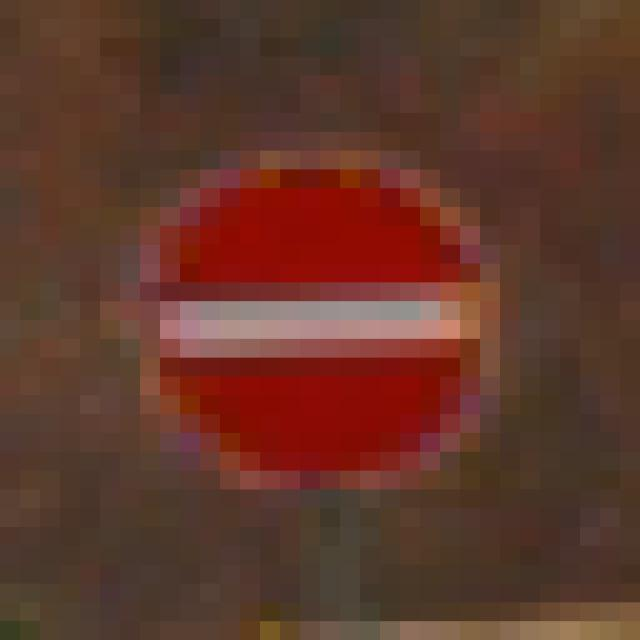No Entry: (101, 114, 521, 528)
